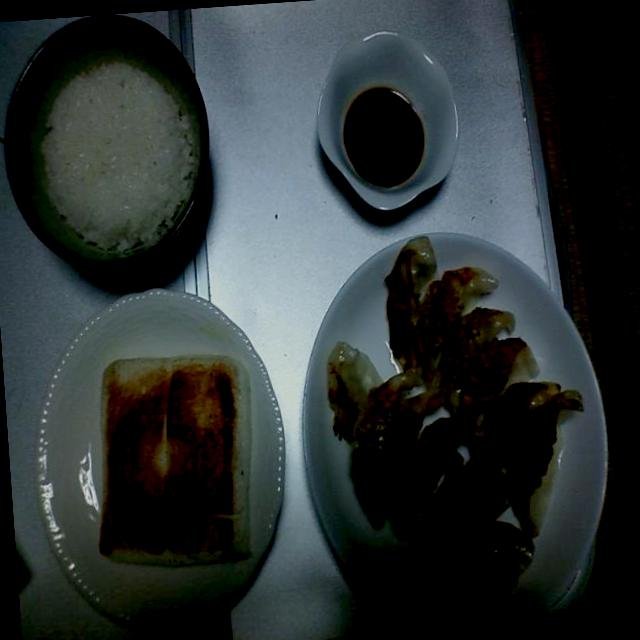Rice: (24, 34, 214, 270)
